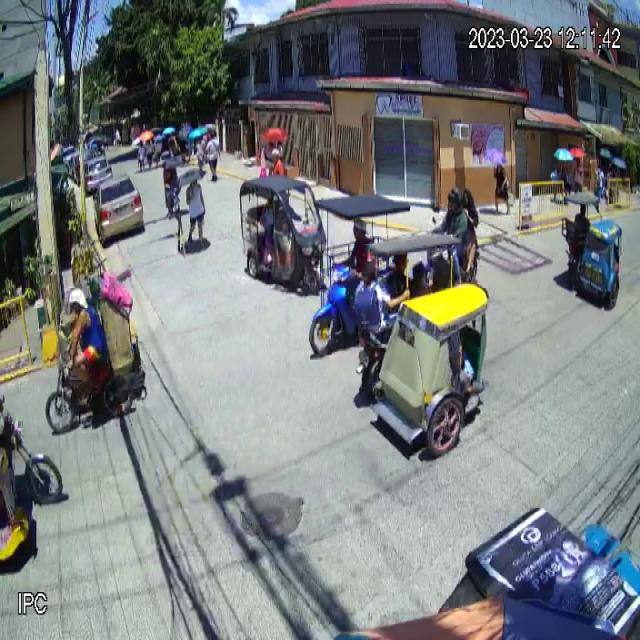Car: (95, 173, 144, 243)
Tricycle: (364, 230, 496, 454), (561, 192, 624, 313)
